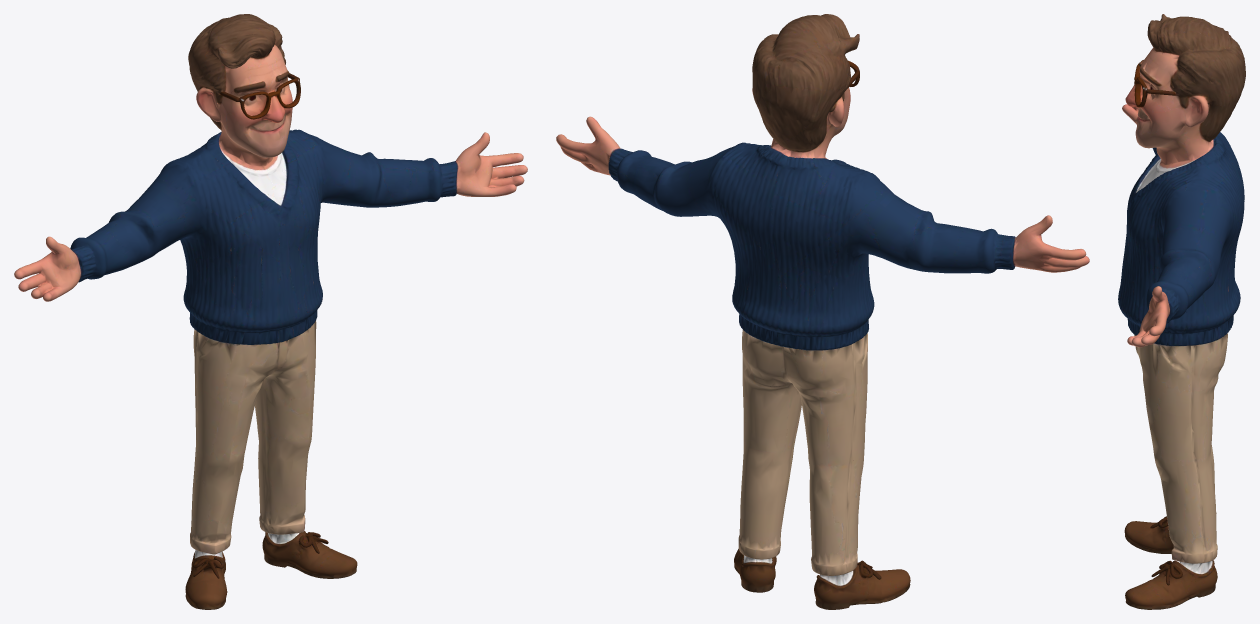
The model's file is a3D-golfer.glb.
3 views of the same model, side by side, from view 1: azimuth 30°, elevation 25°; view 2: azimuth 150°, elevation 25°; view 3: azimuth 270°, elevation 25° (orthographic). The views are drawn at different scales.
Visible parts, largest first — view 1: geometry_0; view 2: geometry_0; view 3: geometry_0.
Part boxes in pixels (<box>): geometry_0: <box>14,14,527,609</box>; geometry_0: <box>556,14,1089,609</box>; geometry_0: <box>1118,14,1245,609</box>.
Bounding box in the file's own units: 1.83 × 1.9 × 0.4.
Materials: 1 (1 with a texture image).
